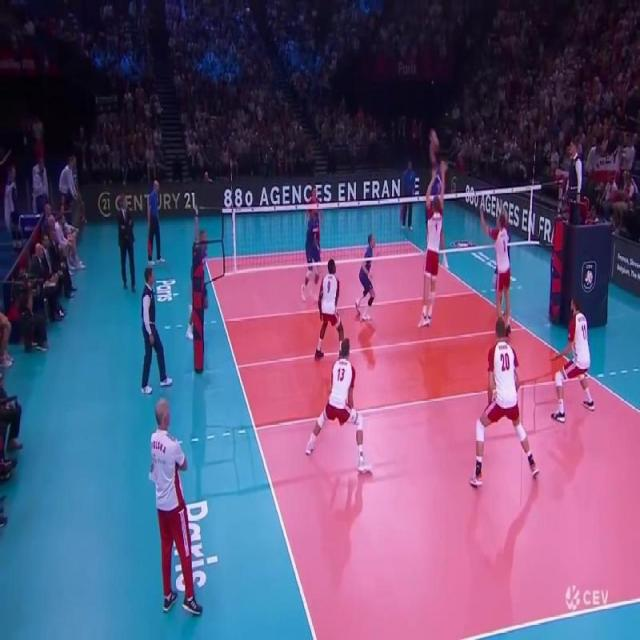volleyball: (431, 136, 439, 150)
